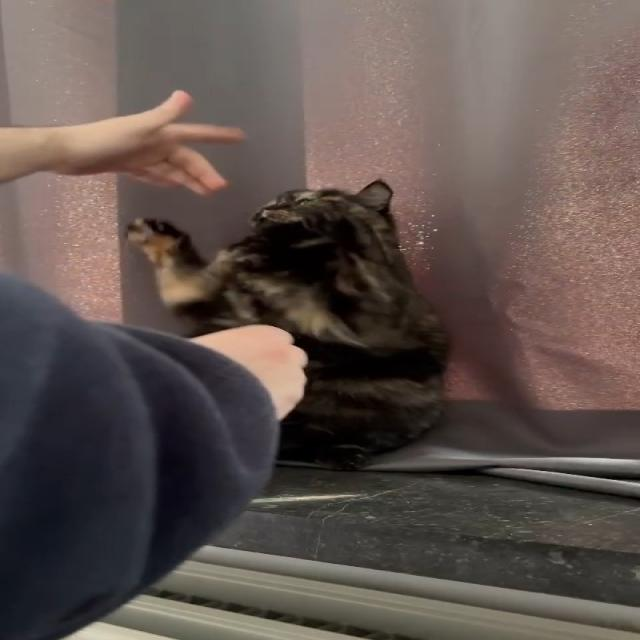authorized: (124, 177, 452, 471)
